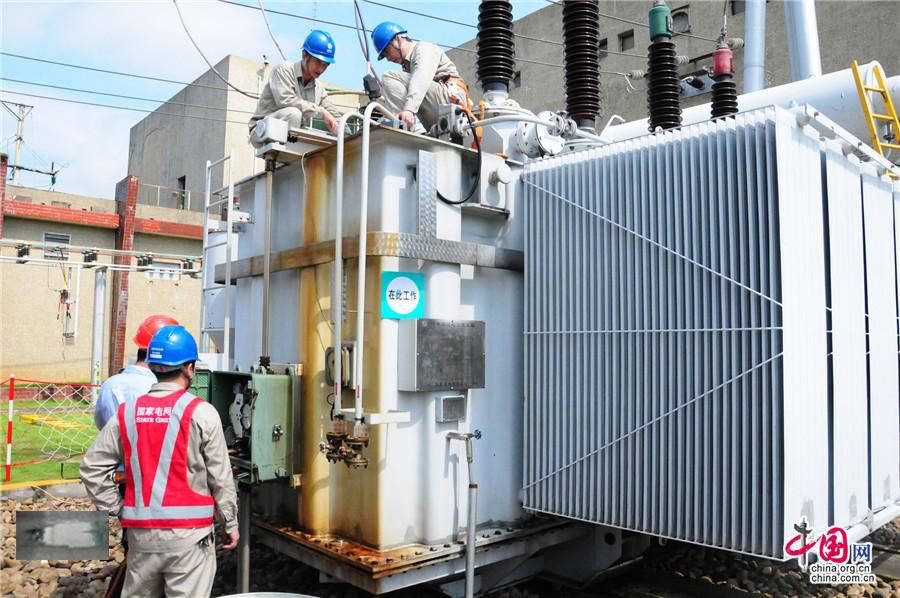oil: (13, 509, 108, 558)
